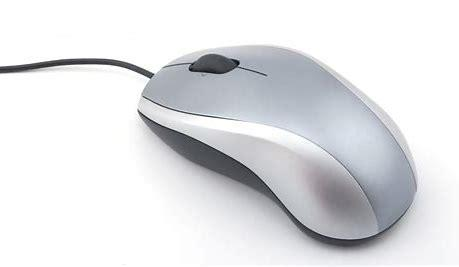computer mouse: (135, 44, 419, 249)
